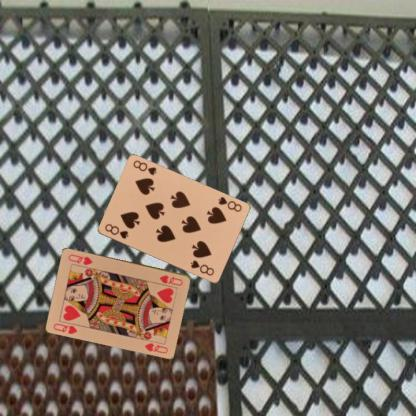8s: (215, 194, 243, 213), (102, 222, 130, 240)
Qh: (157, 272, 184, 287), (51, 321, 78, 335)
